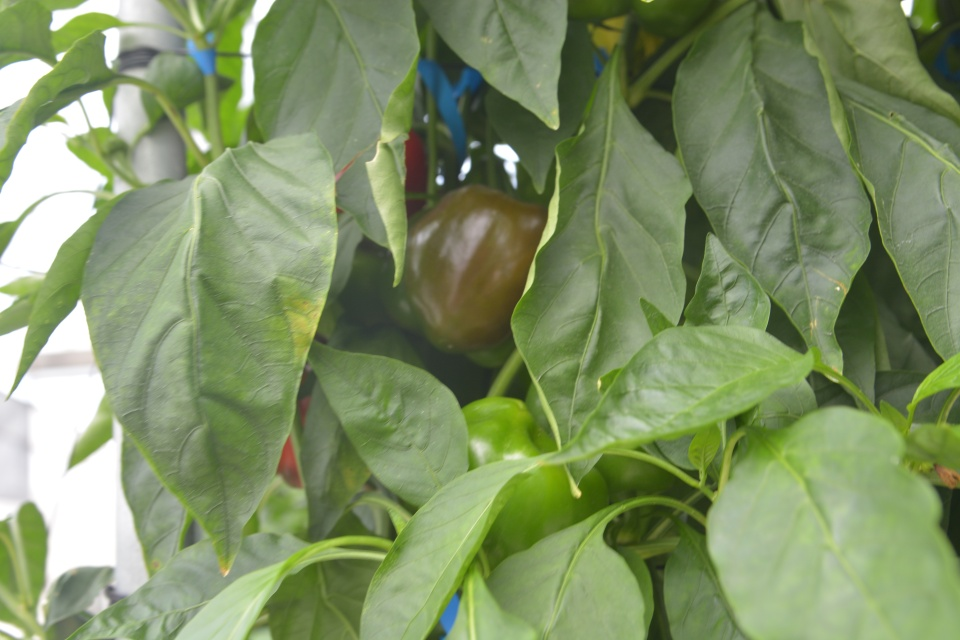fruit: (378, 179, 549, 372), (461, 394, 611, 571)
